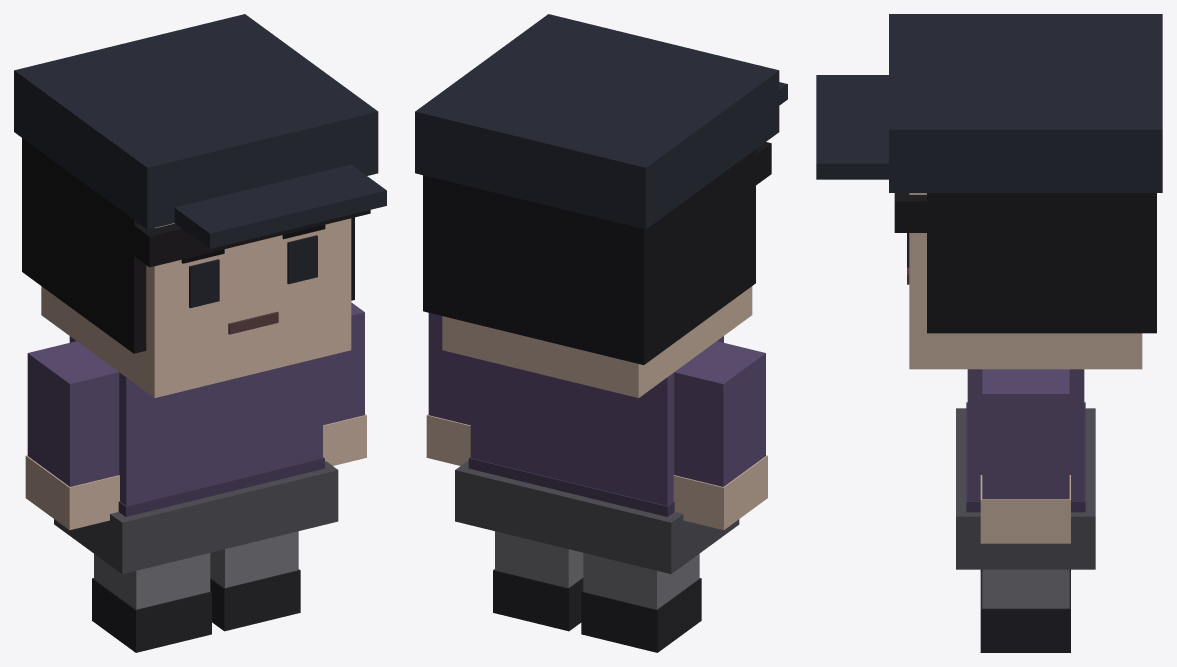
The model's file is npc_anti_female.fbx.
3 views of the same model, side by side, from view 1: azimuth 30°, elevation 25°; view 2: azimuth 150°, elevation 25°; view 3: azimuth 270°, elevation 25° (orthographic). The views are drawn at different scales.
Parts seen in each view (by area): view 1: npc_anti_female, ArmR, LegR, LegL, ArmL; view 2: npc_anti_female, ArmR, LegR, LegL, ArmL; view 3: npc_anti_female, ArmL, LegL.
Part boxes in pixels (box(x1,y1,x2,y2)): npc_anti_female: box(14, 14, 386, 574); ArmR: box(25, 341, 119, 530); LegR: box(92, 553, 211, 652); LegL: box(210, 531, 300, 631); ArmL: box(323, 302, 366, 465); npc_anti_female: box(415, 14, 787, 573); ArmR: box(673, 341, 767, 530); LegR: box(581, 553, 701, 652); LegL: box(493, 531, 583, 631); ArmL: box(426, 313, 470, 465); npc_anti_female: box(816, 14, 1162, 569); ArmL: box(980, 369, 1070, 543); LegL: box(980, 569, 1070, 652).
Bounding box in the file's own units: 0.5324 × 0.8998 × 0.5236.
